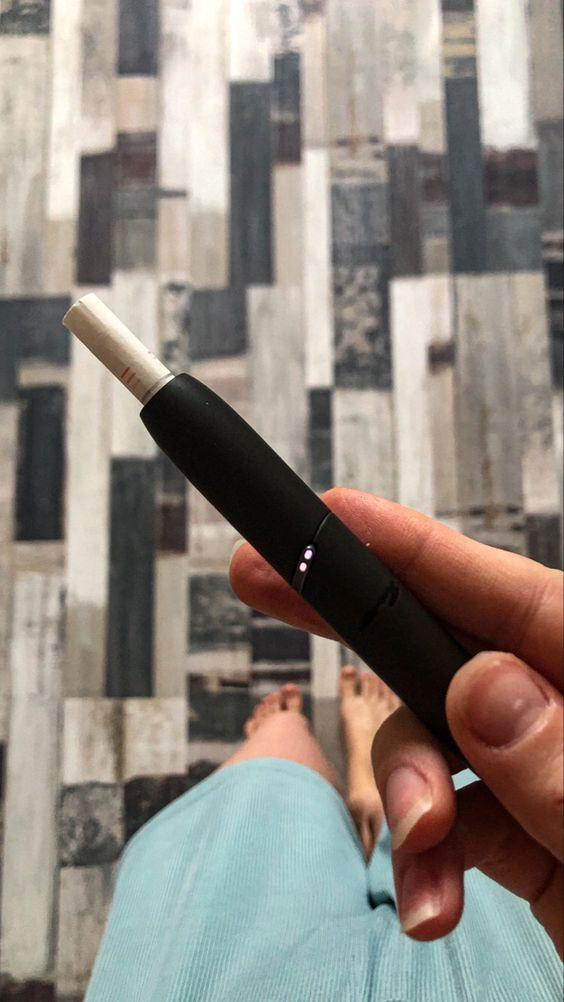iqos: (65, 295, 468, 767)
